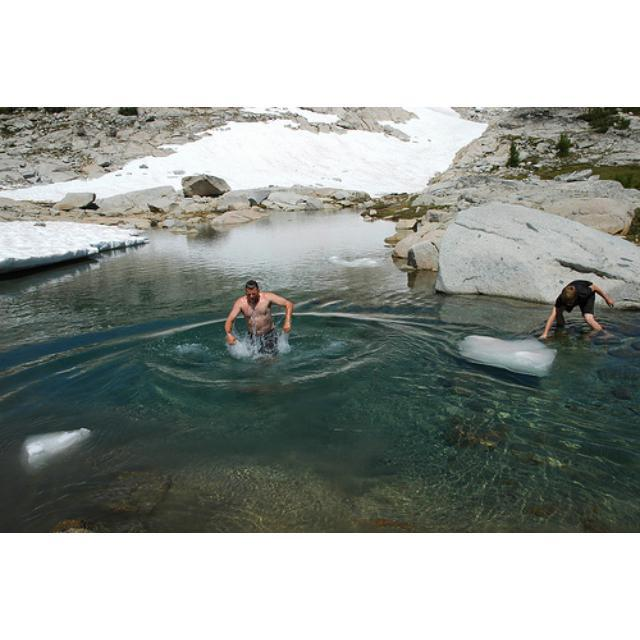human: (224, 277, 295, 346), (540, 277, 615, 339)
